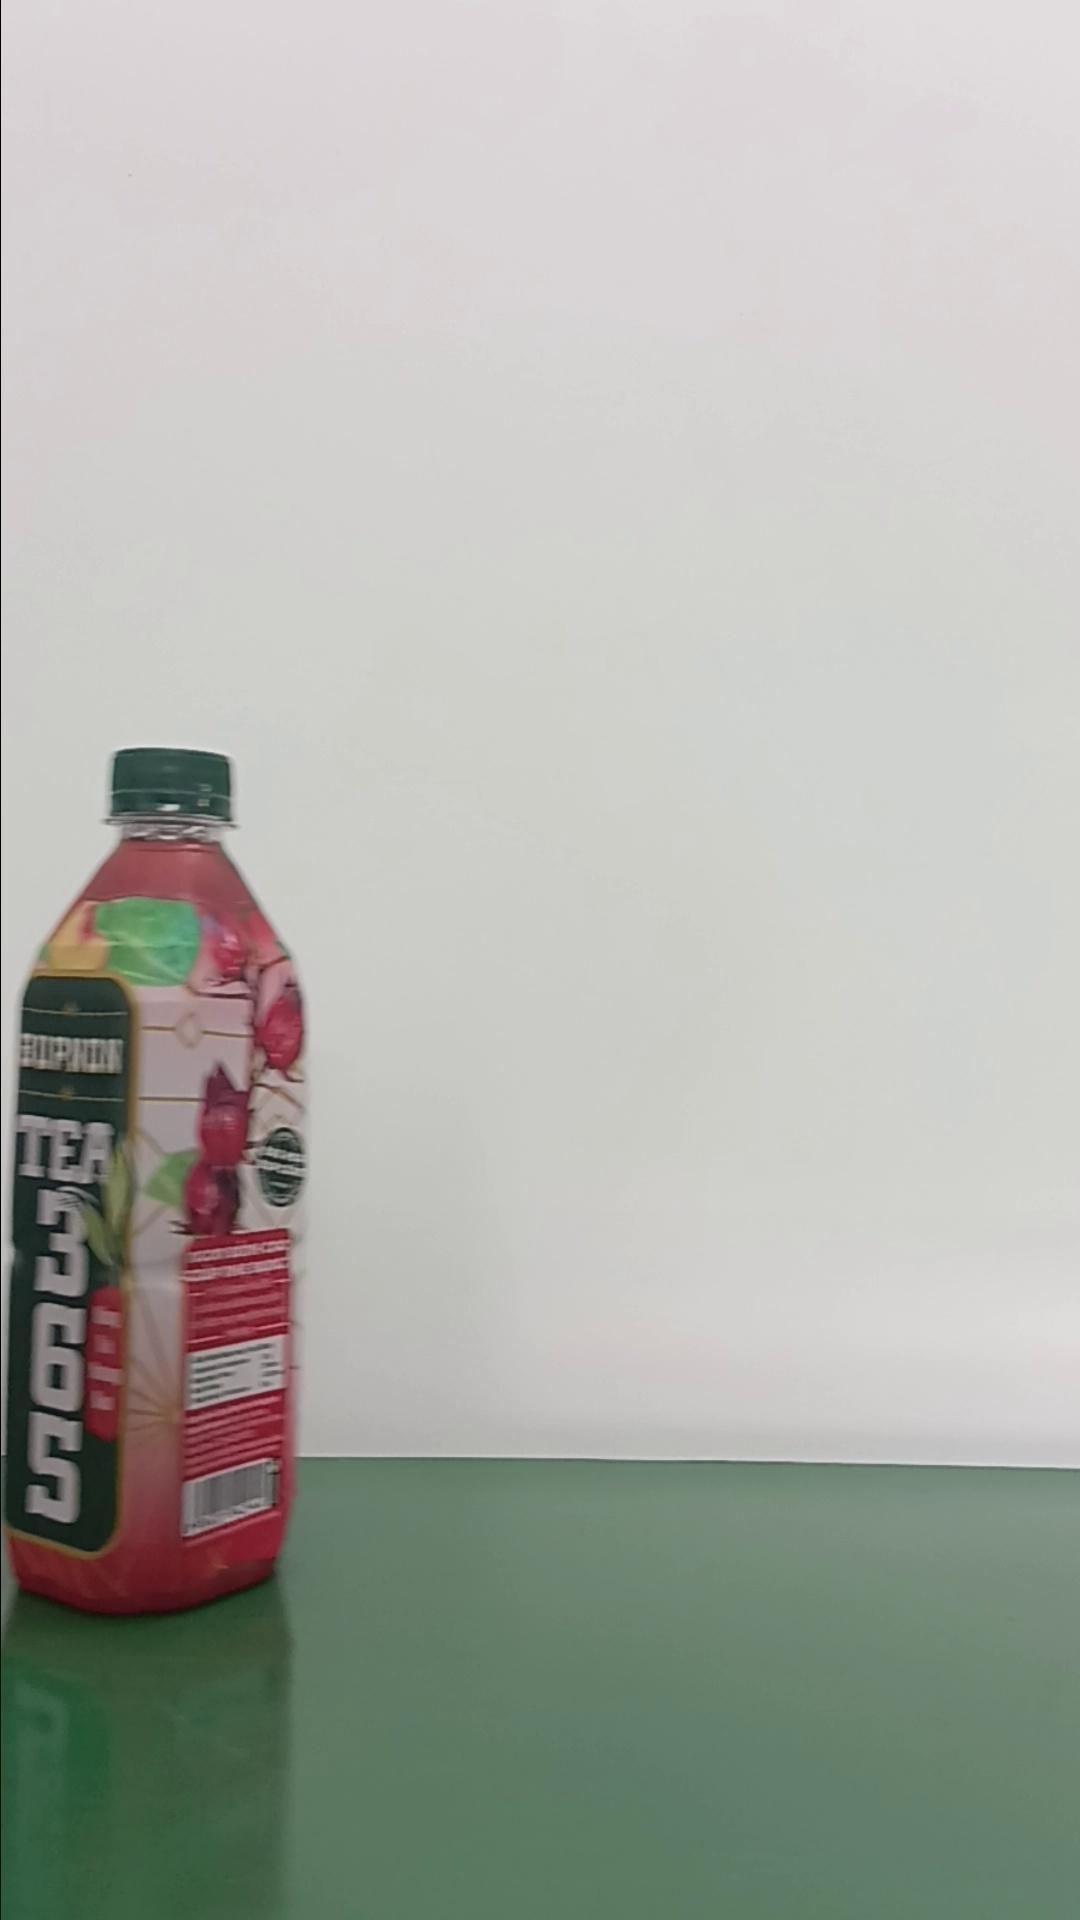khong loi: (3, 744, 311, 1617)
